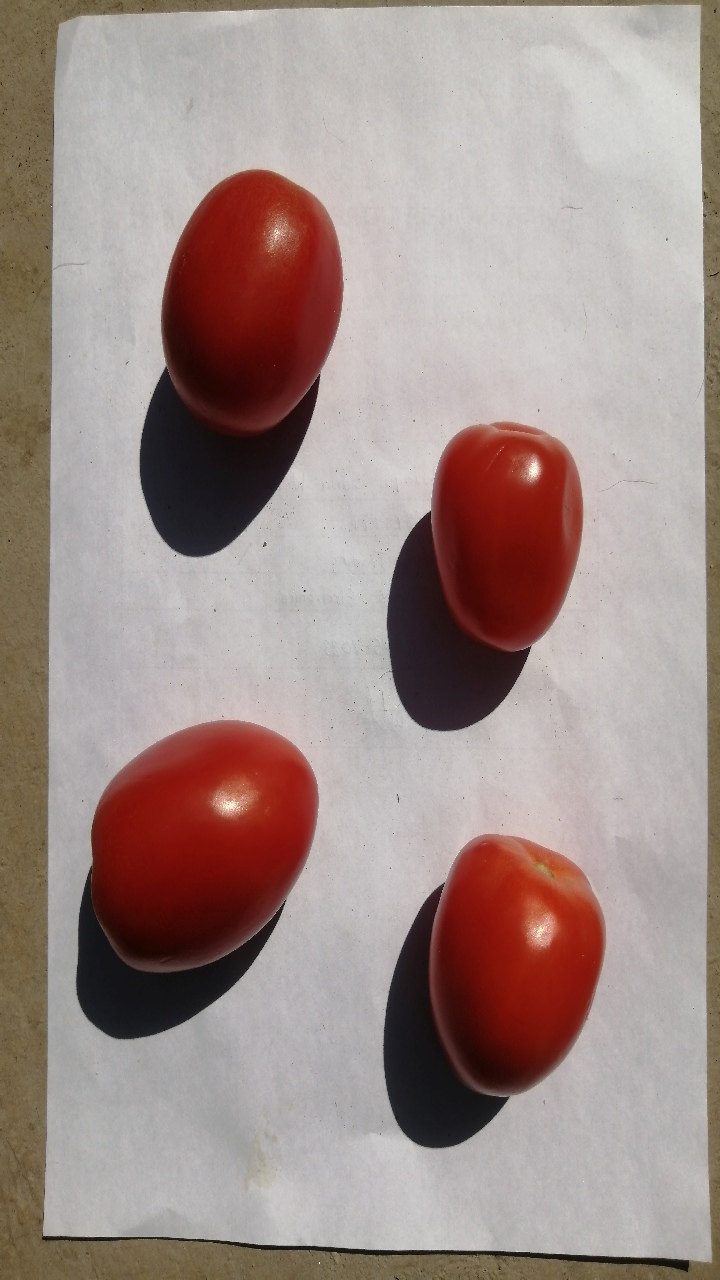tomateRojo: (66, 702, 343, 1003), (409, 814, 621, 1117), (148, 154, 360, 440), (403, 392, 597, 663)
